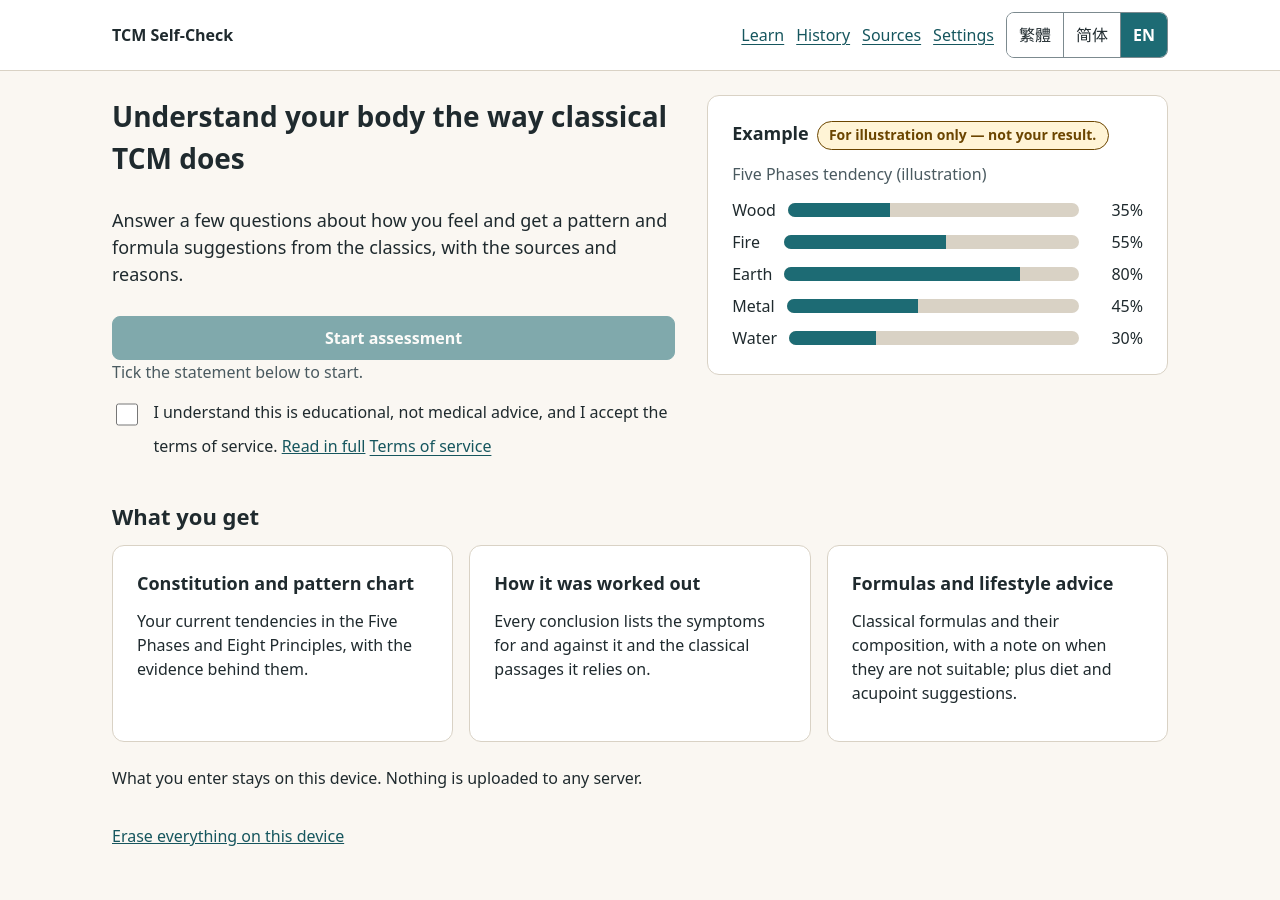
it: Landing (S01) › opens the full statement in a dialog, with the emphasis the policy gives it
Click the button "Read in full" at x=324, y=446, box [282,424,366,468]
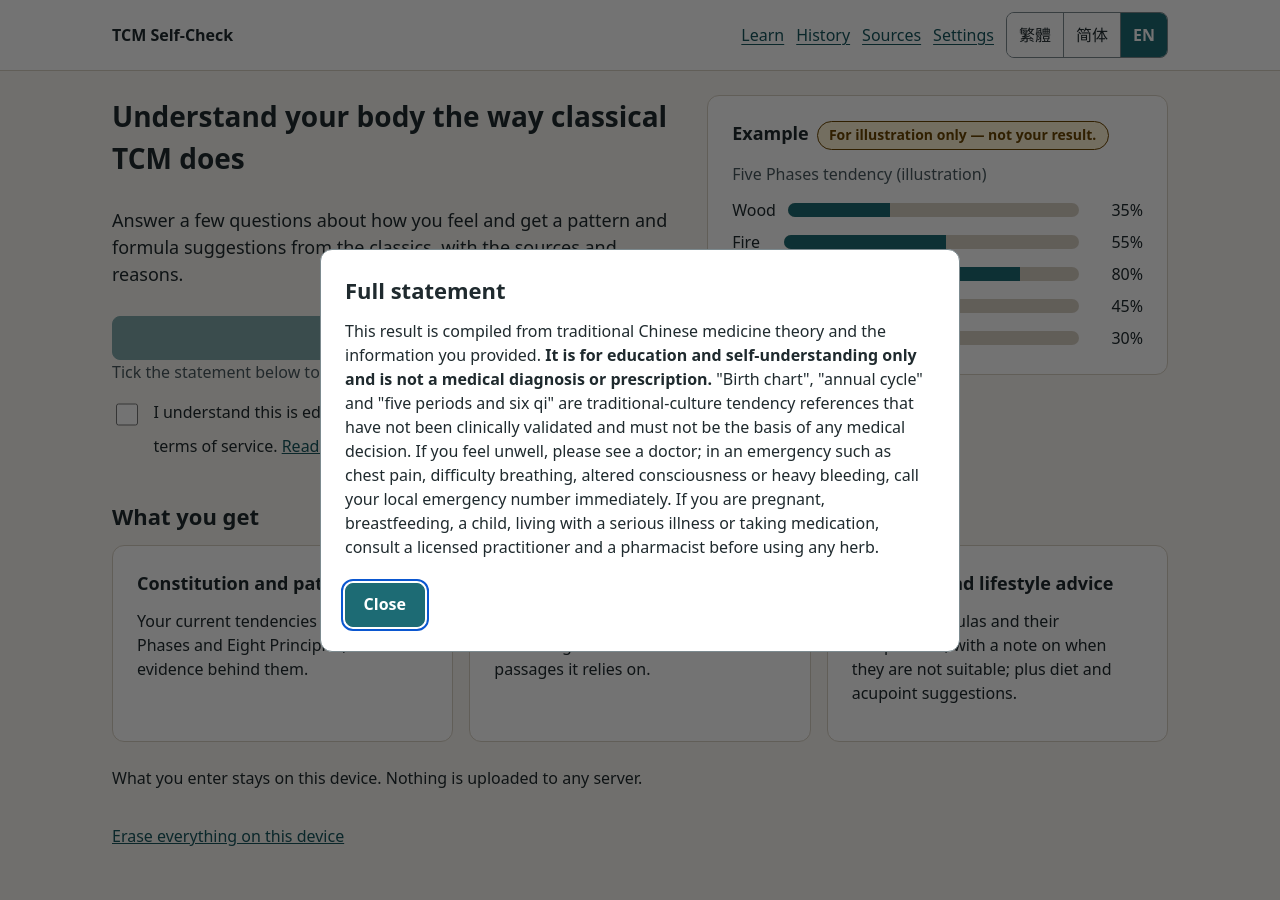
Check: the dialog "Full statement" shows "call your local emergency number immediately", box [345,368,923,558]
Click the button "Close" at x=385, y=604, box [345,582,425,626]
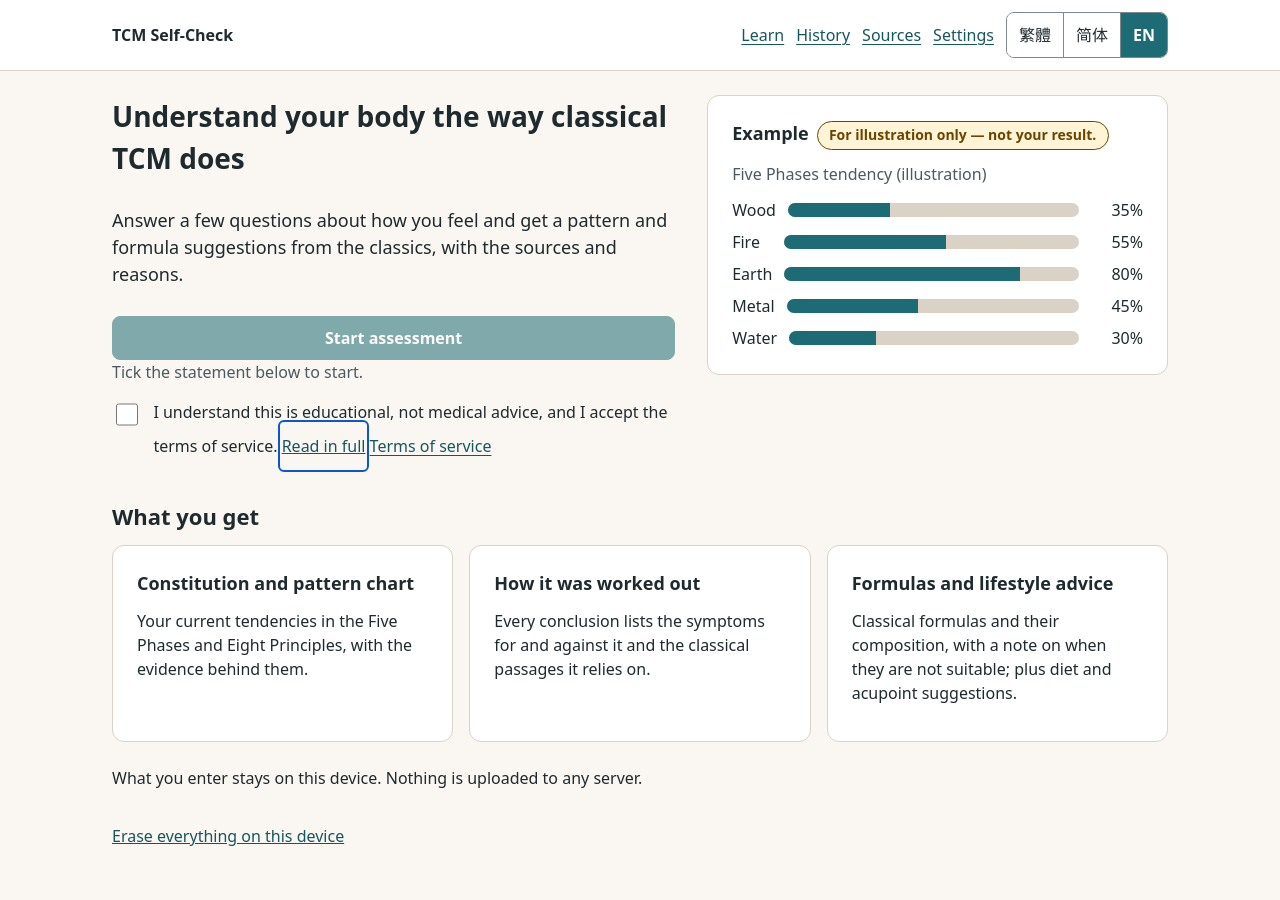
Check: the dialog is gone
